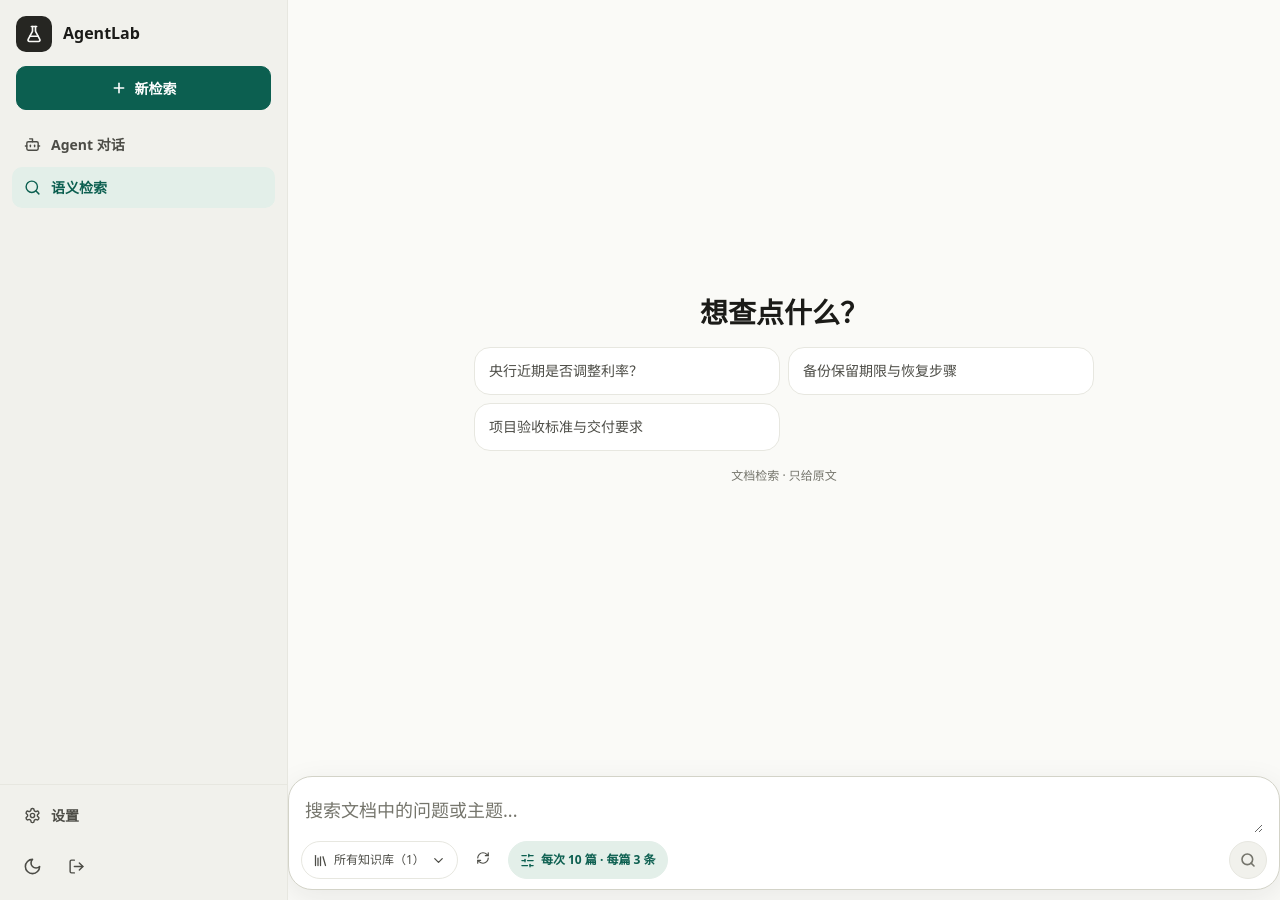
Test: SearchPage search stream › 新检索结束时不从旧结果的全文阅读层抢走焦点
The width and height of the screenshot is (1280, 900).
Type "第一条检索" into the text box with placeholder "搜索文档中的问题或主题..." at (784, 811), box [305,789,1263,833]
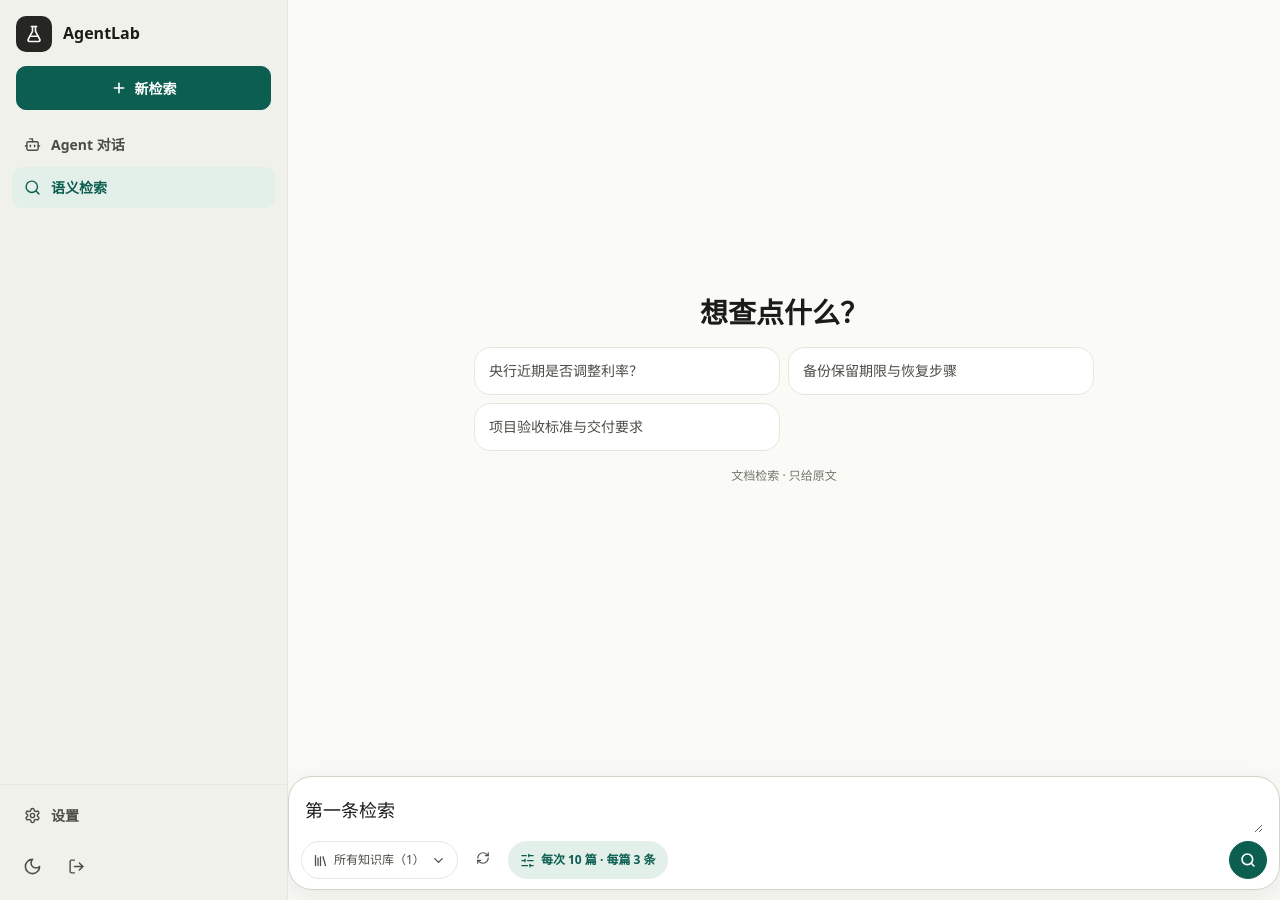
Submit the form, box [288,776,1279,890]
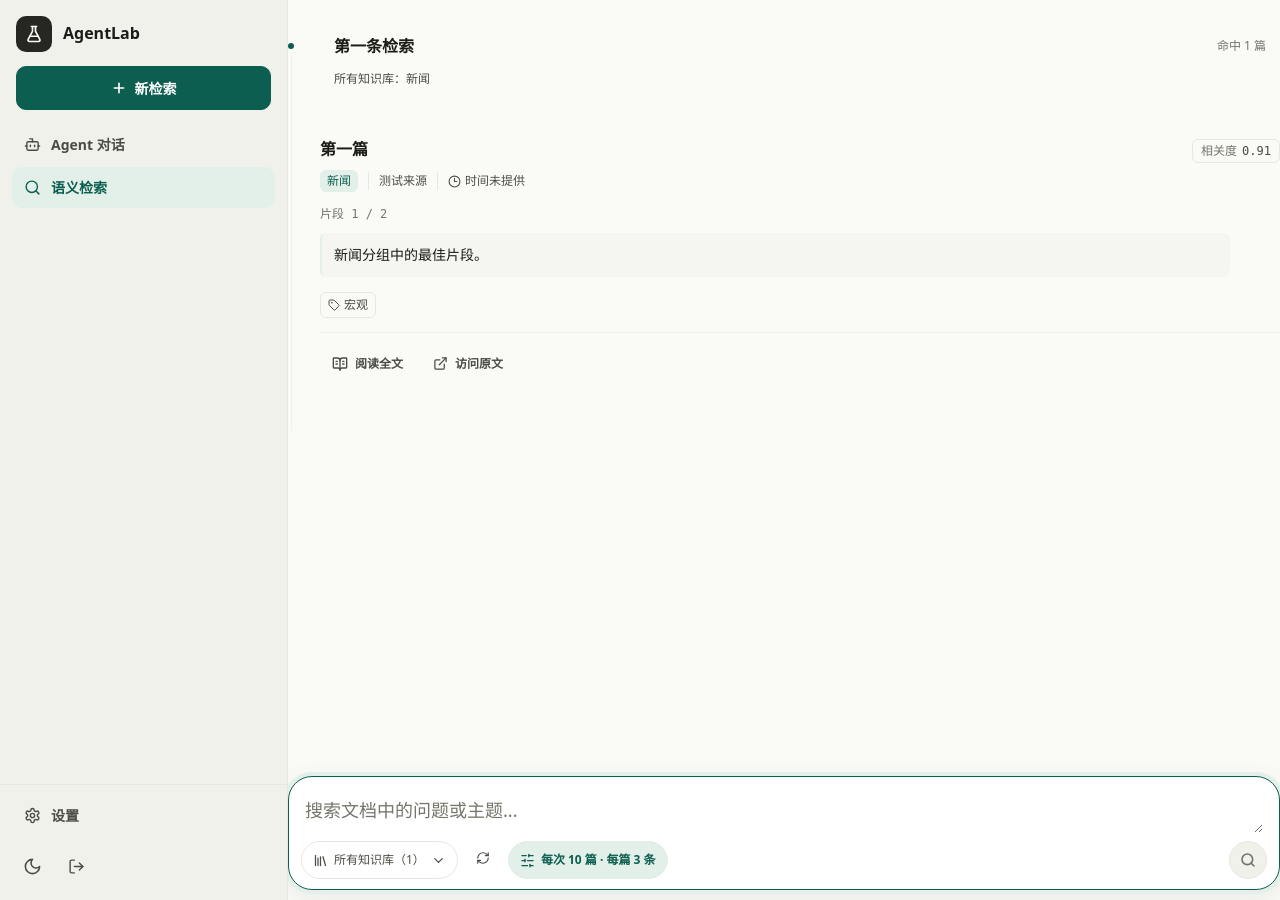
Type "第二条检索" into the text box with placeholder "搜索文档中的问题或主题..." at (784, 811), box [305,789,1263,833]
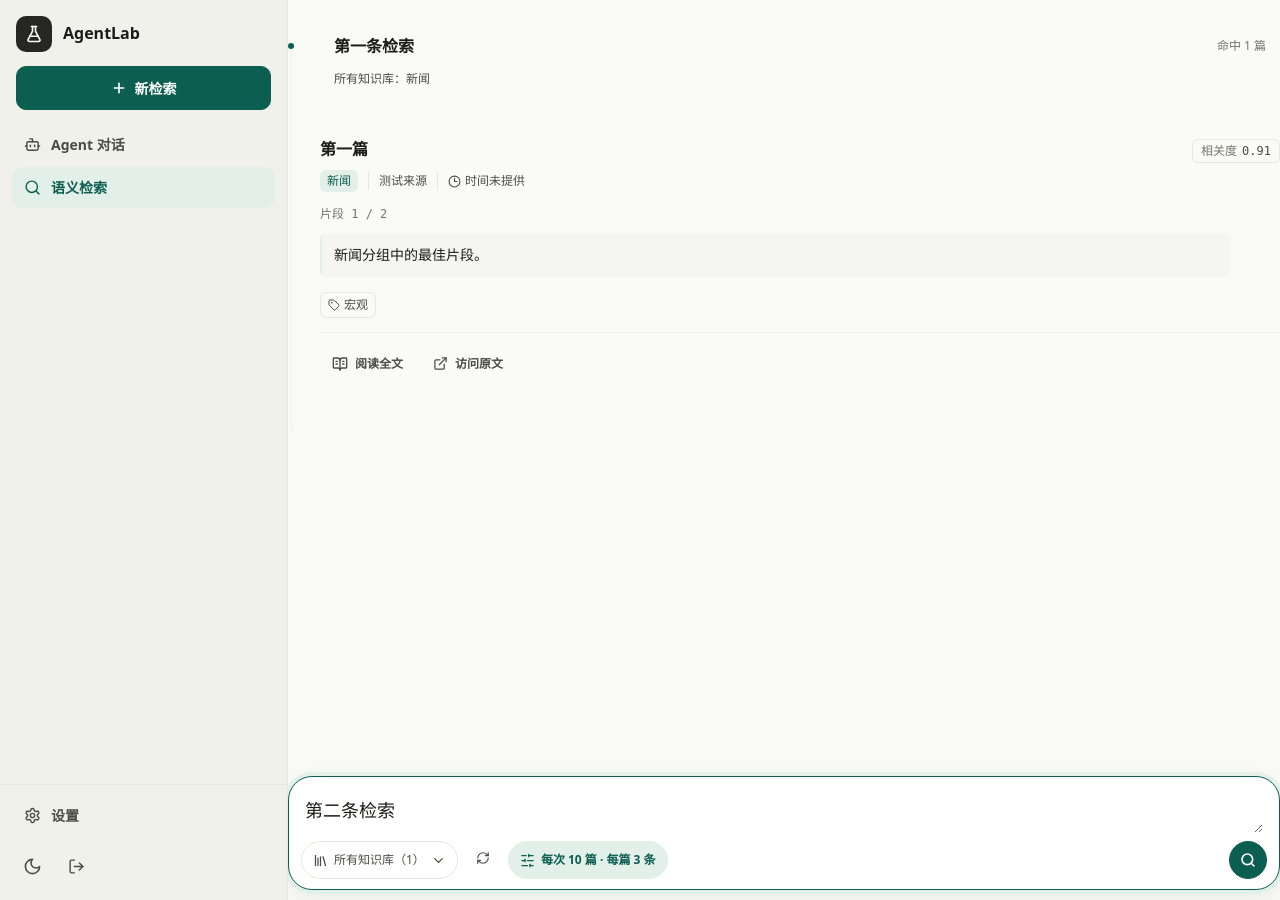
Submit the form, box [288,776,1279,890]
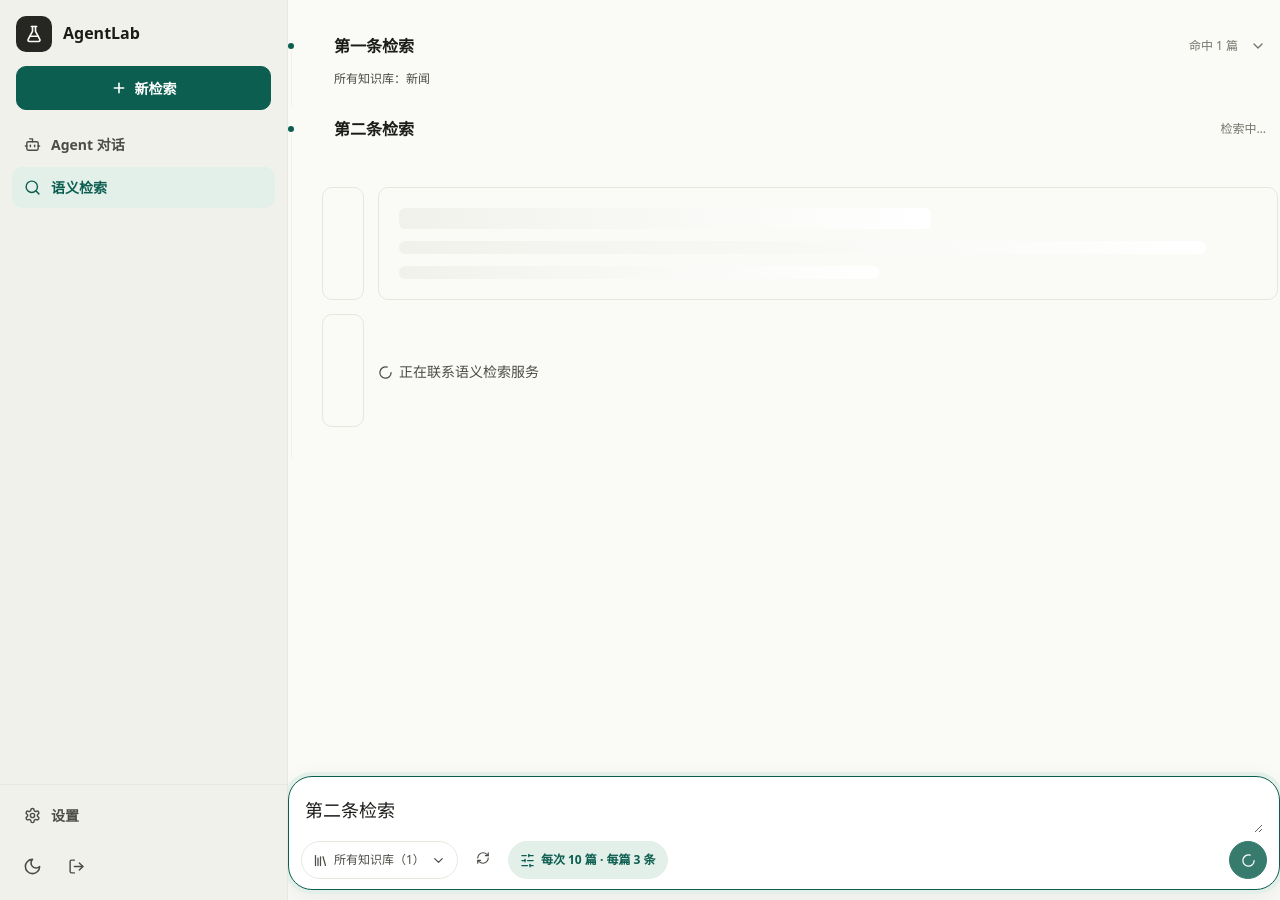
Click the button with class "record-toggle" showing "第一条检索 命中 1 篇" at (374, 46), box [320,24,1279,68]
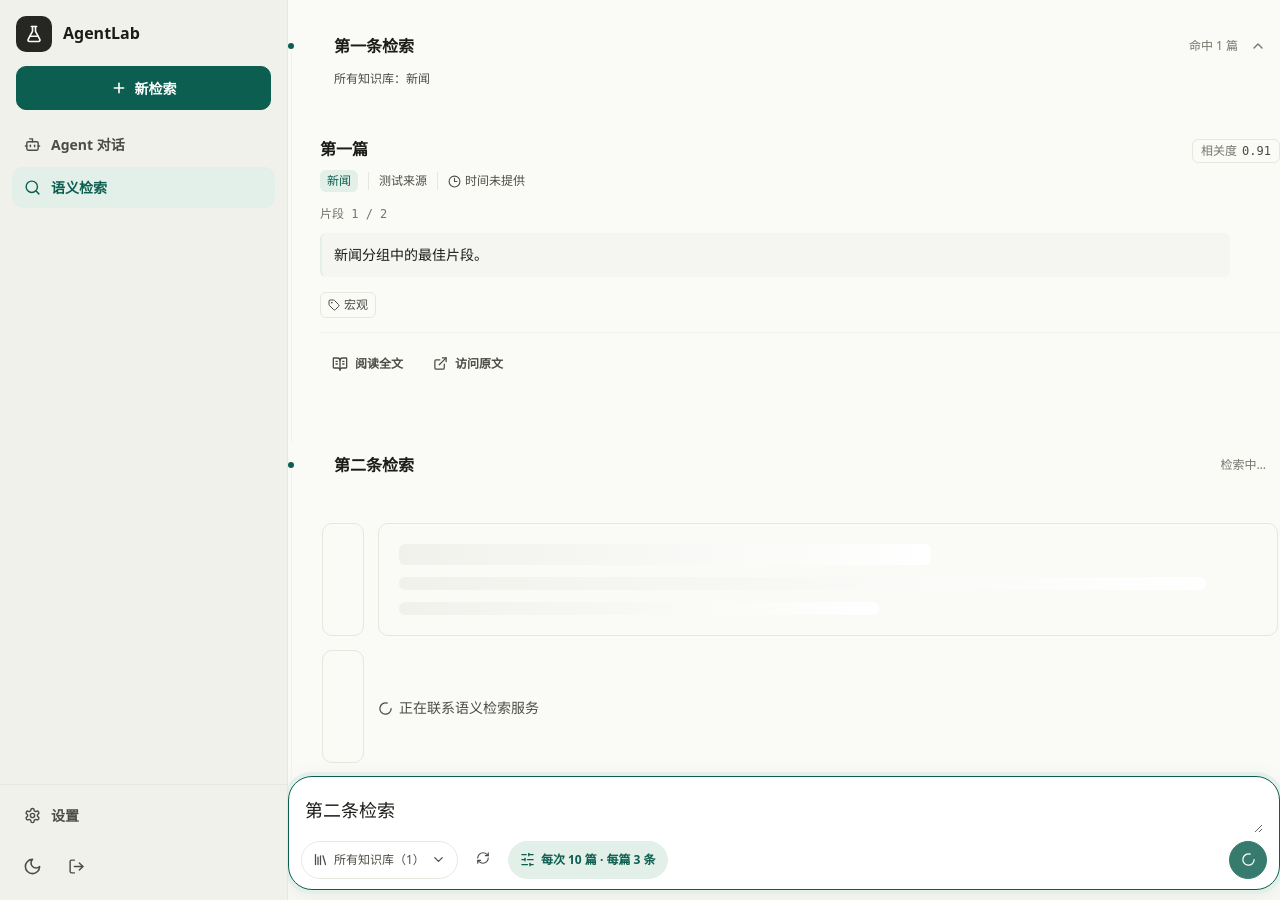
Click the button "阅读全文" at (368, 364), box [320,344,415,382]
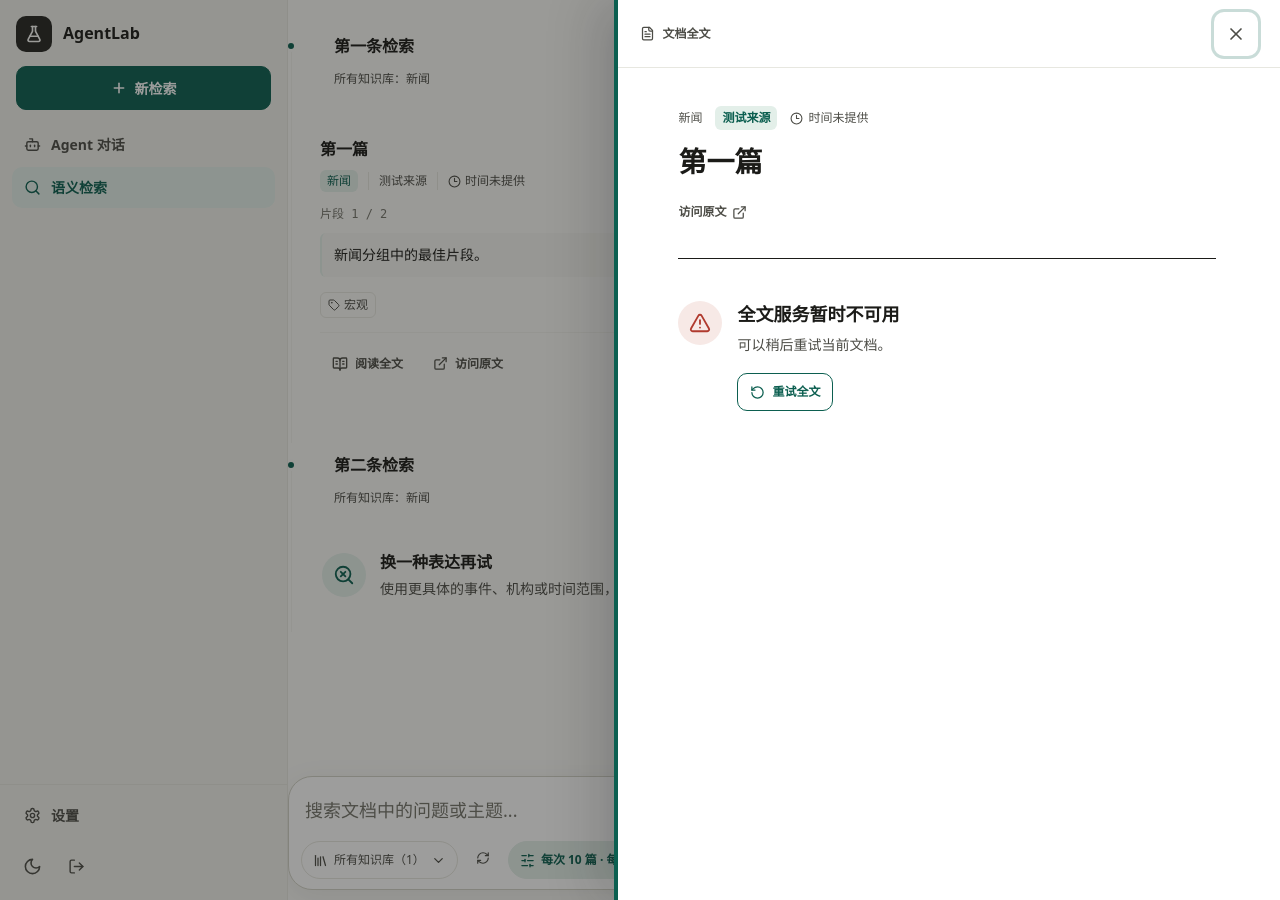
Check: the dialog is shown, box [614,0,1279,899]
